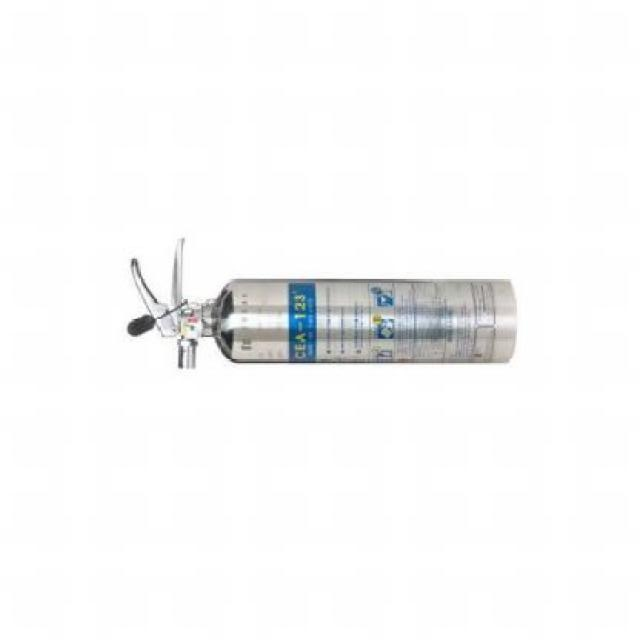fire extinguisher: (125, 238, 517, 370)
